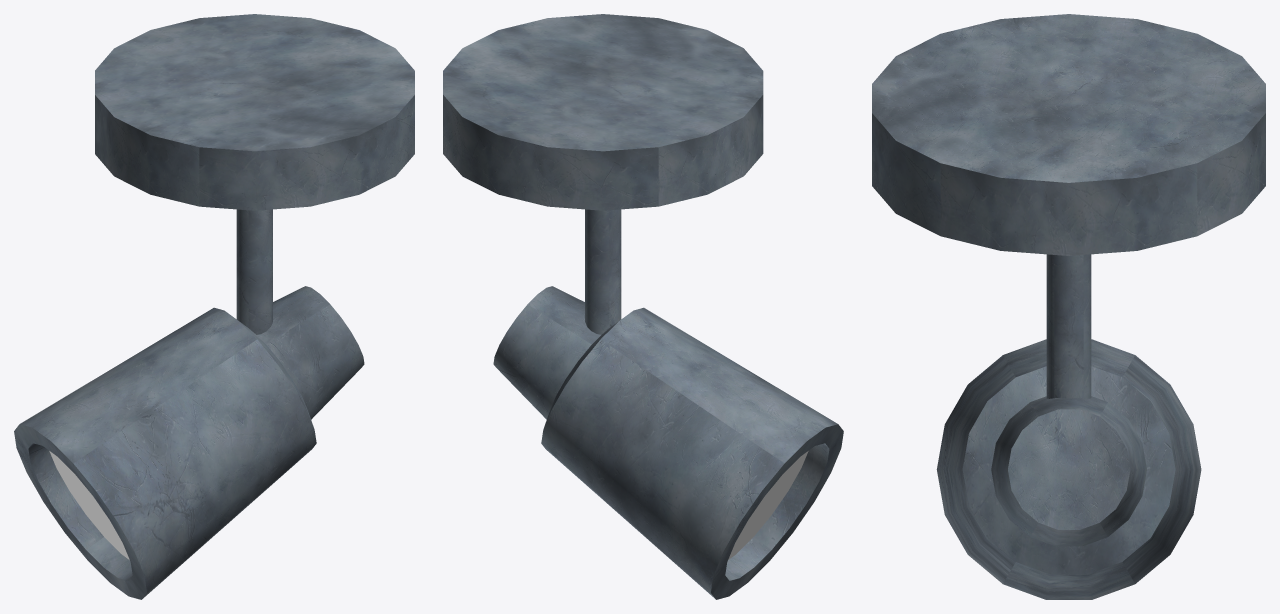
The model's file is Ceiling lamp 1.FBX.
3 renders of one model, left to right at view 1: azimuth 30°, elevation 25°; view 2: azimuth 150°, elevation 25°; view 3: azimuth 270°, elevation 25°, orthographic. The views are drawn at different scales.
Parts seen in each view (by area): view 1: Ceiling lamp 1; view 2: Ceiling lamp 1; view 3: Ceiling lamp 1.
Boxes of the visible parts, x1,y1,x2,y2 form: Ceiling lamp 1: [14, 14, 414, 599]; Ceiling lamp 1: [443, 14, 843, 599]; Ceiling lamp 1: [872, 14, 1265, 599].
Size of the model in its own units: 13.4 by 17.15 by 10.5.
Materials: 2 (1 with a texture image).
